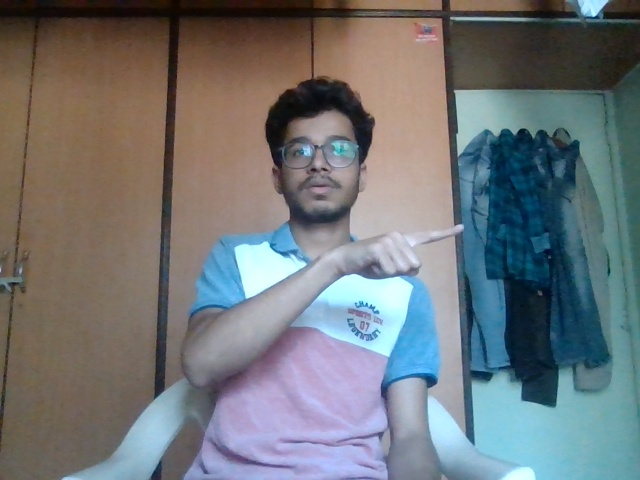you: (319, 216, 477, 288)
